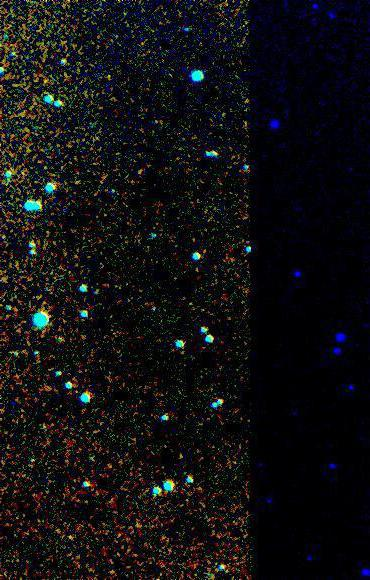star: (42, 515, 72, 545)
